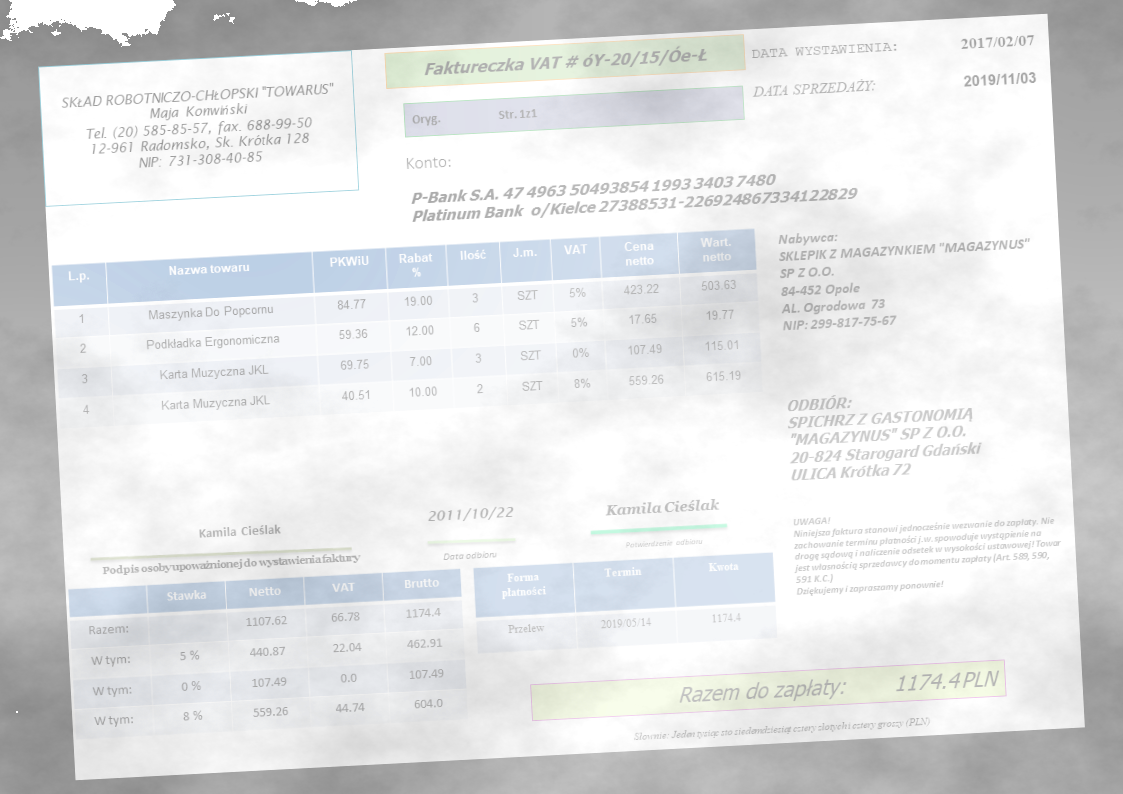Table: (50, 226, 764, 430), (67, 567, 471, 740), (472, 550, 778, 656)
TextBox: (775, 217, 1037, 335), (408, 165, 859, 226), (790, 502, 1067, 599), (58, 79, 340, 174), (785, 387, 987, 484), (676, 663, 1003, 708), (421, 43, 710, 82), (632, 712, 933, 745), (98, 548, 363, 580), (747, 38, 900, 63), (409, 104, 539, 130), (751, 76, 879, 100), (603, 494, 723, 519), (425, 502, 516, 525), (958, 30, 1037, 54), (960, 67, 1039, 90), (196, 522, 283, 541), (623, 535, 704, 551), (402, 153, 453, 174), (440, 548, 498, 564)
